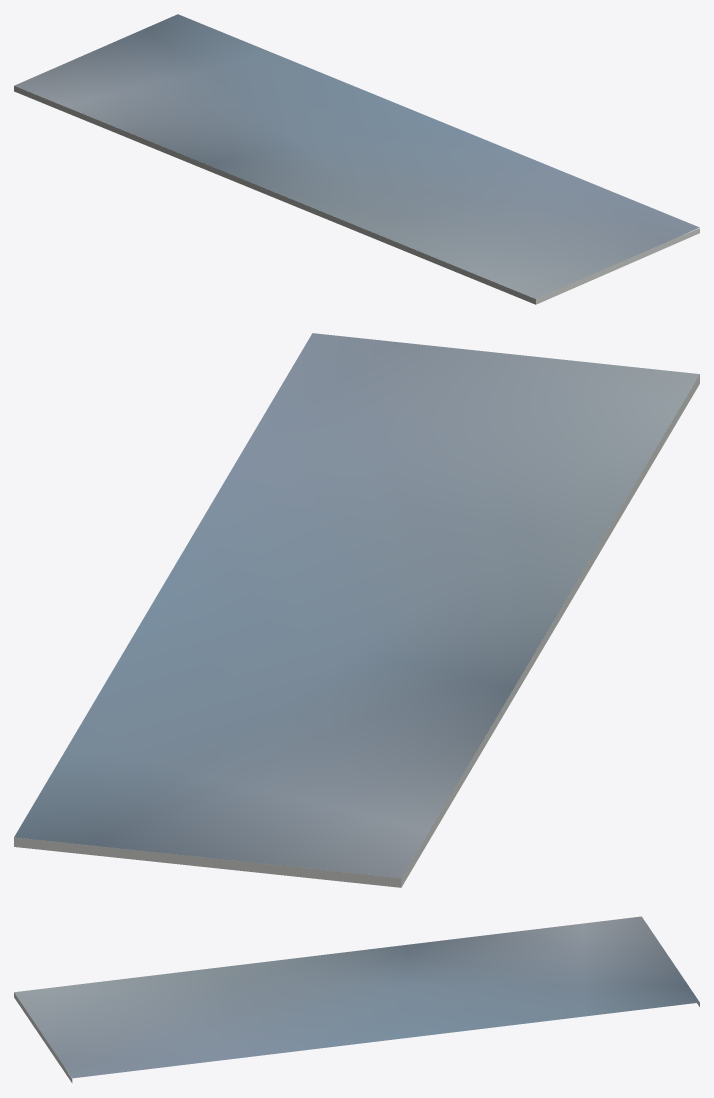
The model's file is LSGS_3_0.glb.
3 views of the same model, one above another, from view 1: azimuth 30°, elevation 25°; view 2: azimuth 150°, elevation 25°; view 3: azimuth 270°, elevation 25° (orthographic). The views are drawn at different scales.
Parts seen in each view (by area): view 1: building_fa36d7693370f324, building_7507a1bd41fc0066; view 2: building_fa36d7693370f324, building_7507a1bd41fc0066; view 3: building_fa36d7693370f324, building_7507a1bd41fc0066.
Boxes of the visible parts, <box> form: building_fa36d7693370f324: <box>14,14,699,298</box>; building_7507a1bd41fc0066: <box>14,86,699,304</box>; building_fa36d7693370f324: <box>14,333,699,878</box>; building_7507a1bd41fc0066: <box>14,374,699,887</box>; building_fa36d7693370f324: <box>14,916,699,1078</box>; building_7507a1bd41fc0066: <box>14,993,699,1082</box>.
Size of the model in its own units: 6.81 by 0.1 by 12.2.
2 materials, 1 textured.
